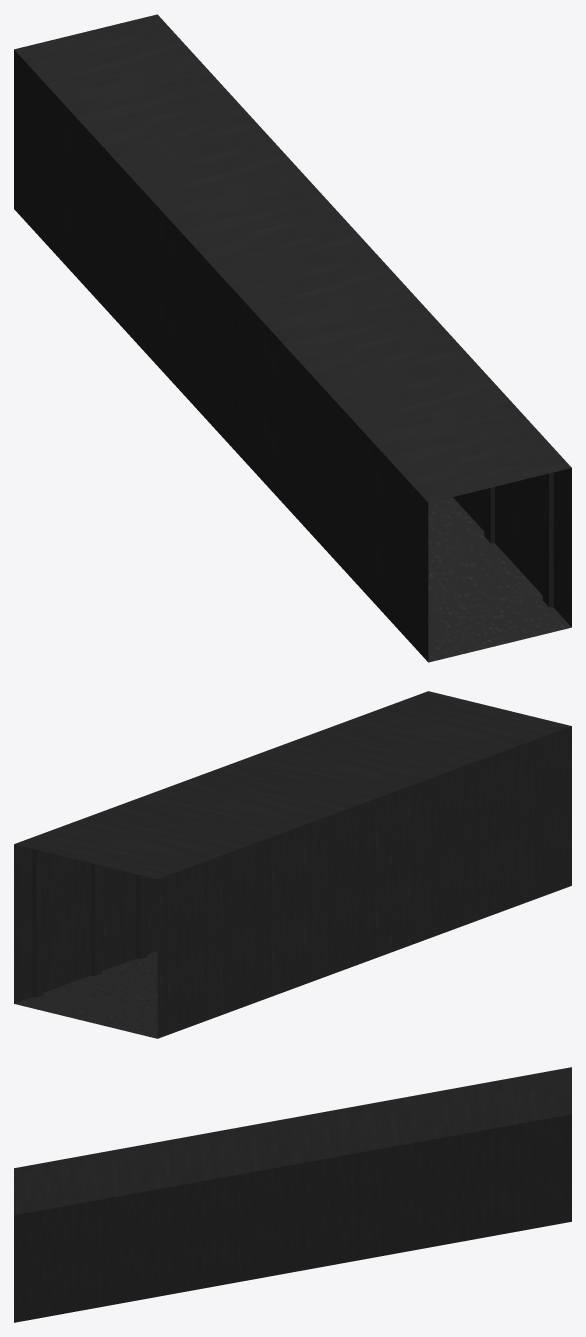
The model's file is SW_ENV_RailTunnel_TrackRise_Single_20m.fbx.
3 views of the same model, one above another, from view 1: azimuth 30°, elevation 25°; view 2: azimuth 150°, elevation 25°; view 3: azimuth 270°, elevation 25° (orthographic). The views are drawn at different scales.
Visible parts, largest first — view 1: SW_ENV_RailTunnel_TrackRise_Single_20m; view 2: SW_ENV_RailTunnel_TrackRise_Single_20m; view 3: SW_ENV_RailTunnel_TrackRise_Single_20m.
Part boxes in pixels (left/top/right/bottom): SW_ENV_RailTunnel_TrackRise_Single_20m: left=14, top=14, right=571, bottom=662; SW_ENV_RailTunnel_TrackRise_Single_20m: left=14, top=691, right=571, bottom=1038; SW_ENV_RailTunnel_TrackRise_Single_20m: left=14, top=1067, right=571, bottom=1322.
Size of the model in its own units: 400 by 825 by 2000.
